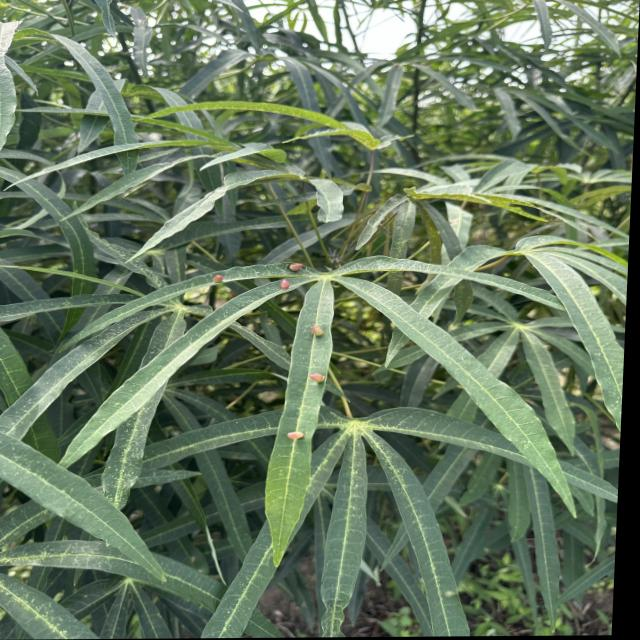Mosca: (296, 322, 335, 338), (286, 421, 307, 447), (285, 255, 311, 274), (272, 275, 296, 294), (306, 372, 333, 388), (211, 269, 227, 289)
